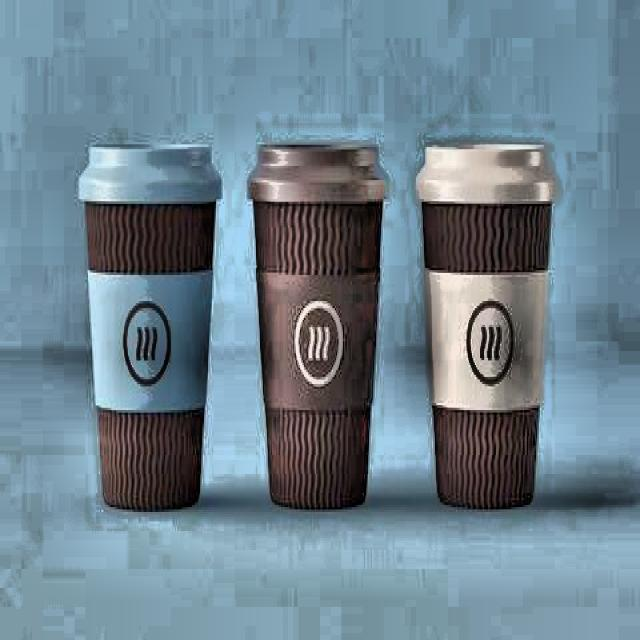Cup: (243, 154, 399, 510), (68, 153, 222, 509), (409, 173, 548, 531)
